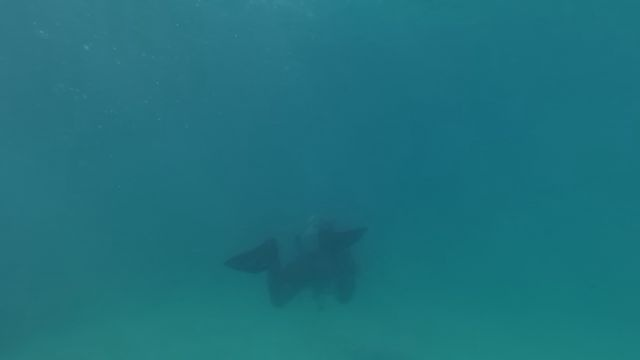Diver: (218, 217, 378, 317)
